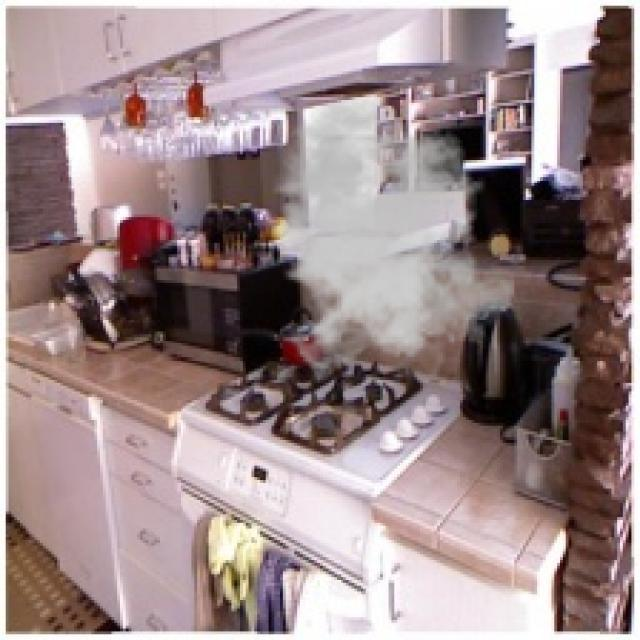Smoke: (246, 94, 514, 377)
